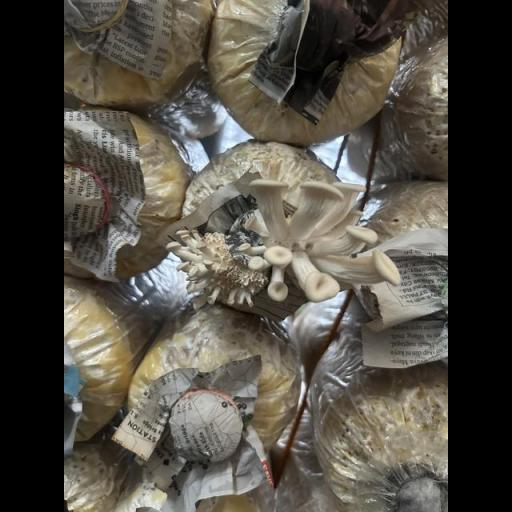White Oyster Mushroom: (158, 159, 414, 323)
